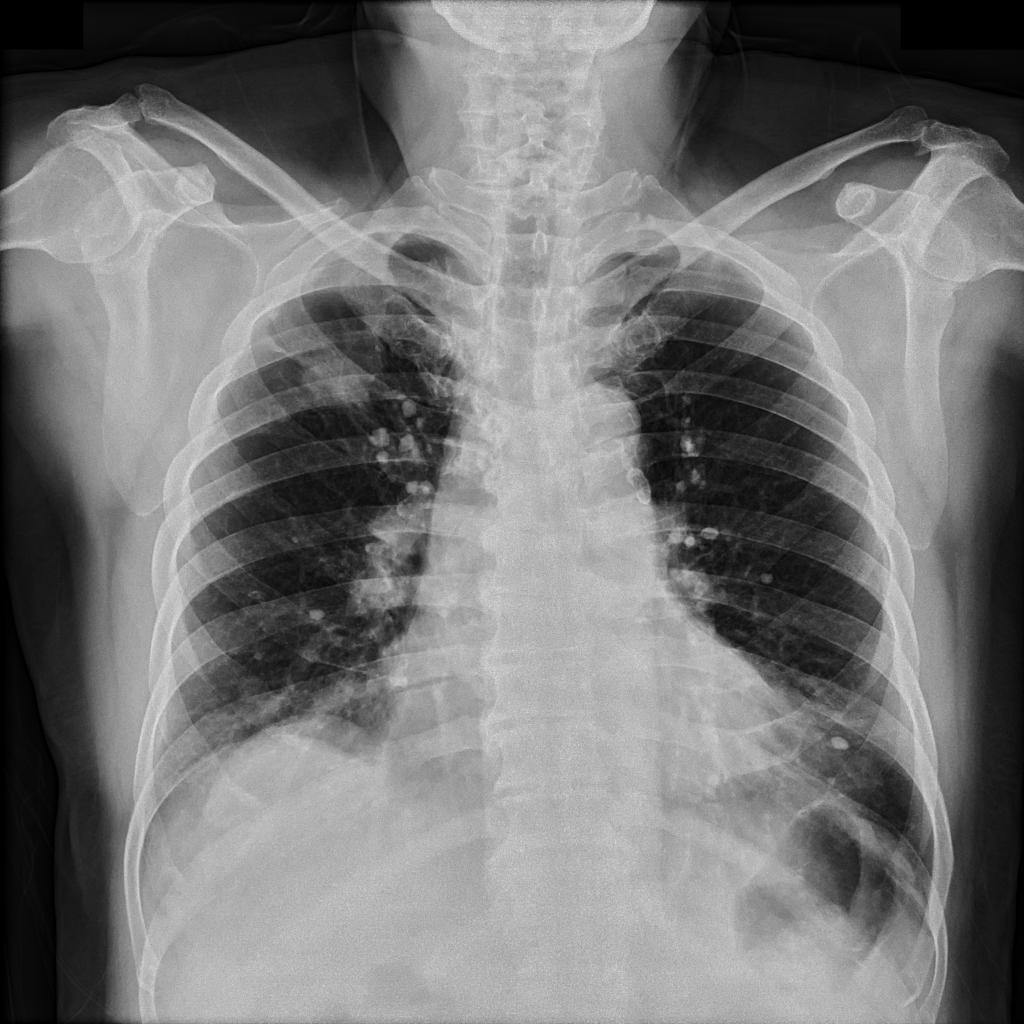Nodule: (661, 525, 780, 590), (372, 399, 436, 493), (823, 771, 868, 793), (627, 468, 653, 506), (828, 734, 851, 752), (305, 607, 326, 623)
